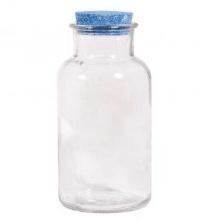bottle: (49, 17, 161, 215)
